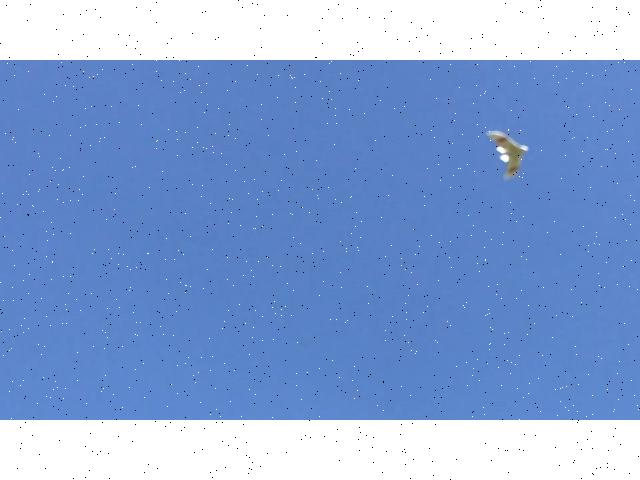Anti-Drone: (466, 104, 546, 186)
